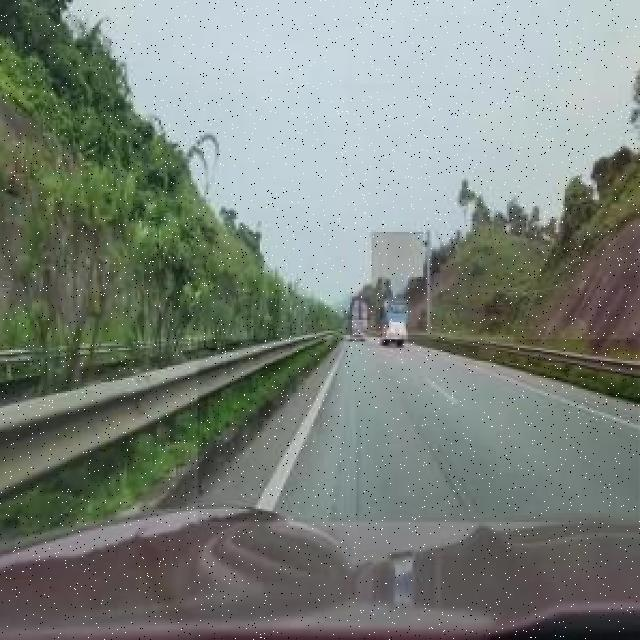clear-road: (199, 339, 640, 522)
